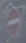No entry: (5, 6, 21, 38)
